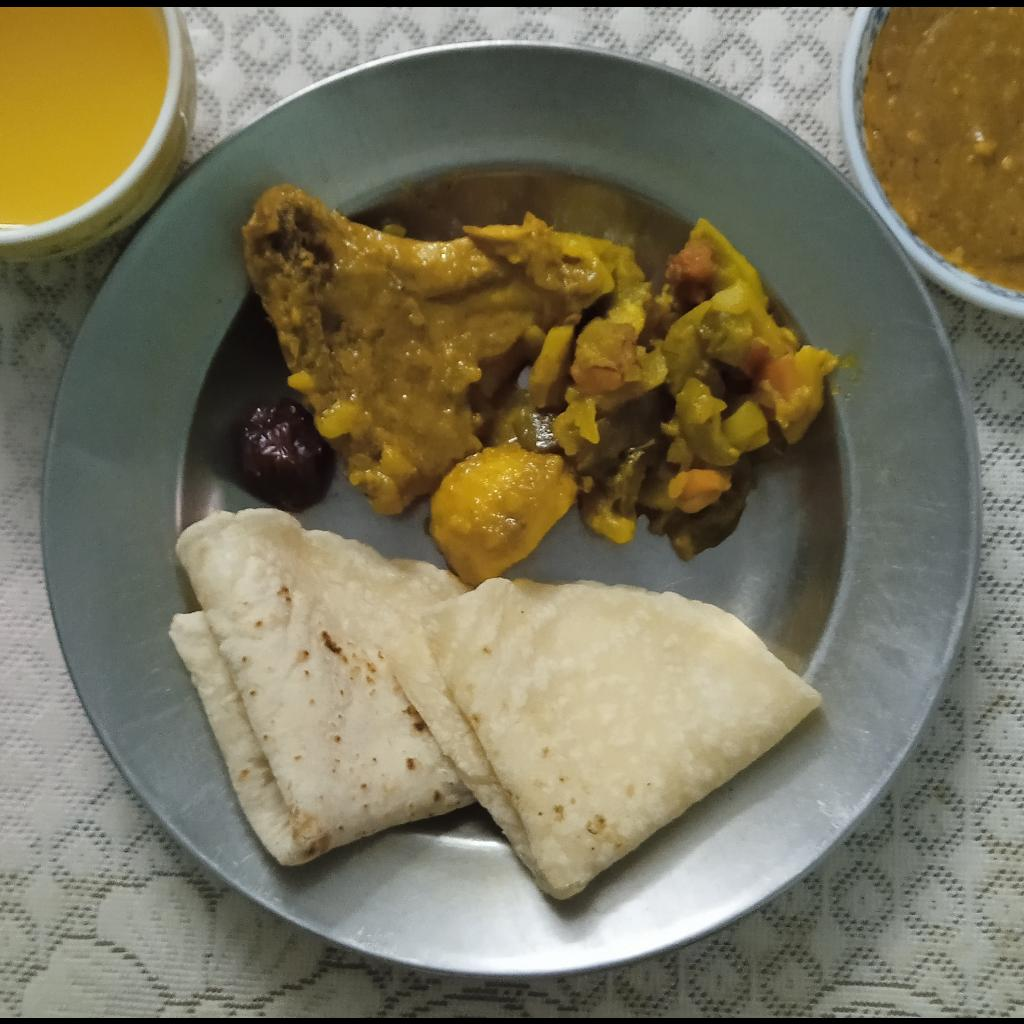chicken: (246, 181, 620, 513)
daal: (863, 6, 1024, 289)
dates: (240, 393, 337, 512)
juice: (0, 6, 168, 223)
ruti: (166, 511, 823, 900)
vegetable: (428, 216, 839, 583)
